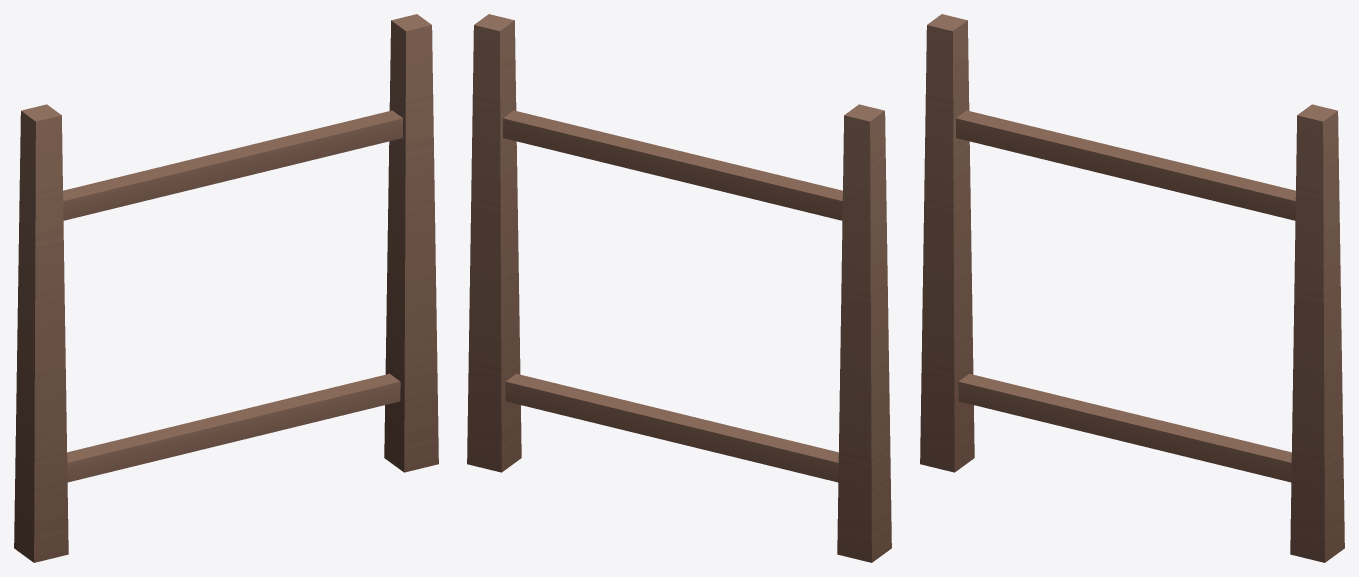
File: fence_wood.glb
3 views of the same model, side by side, from view 1: azimuth 30°, elevation 25°; view 2: azimuth 150°, elevation 25°; view 3: azimuth 330°, elevation 25° (orthographic).
Visible parts, largest first — view 1: fence; view 2: fence; view 3: fence.
Part boxes in pixels (x1,y1,x2,y2): fence: (14, 14, 438, 562); fence: (467, 14, 891, 562); fence: (920, 14, 1344, 562).
Size of the model in its own units: 1.33 by 1.37 by 0.1134.
Materials: 1 (1 with a texture image).
